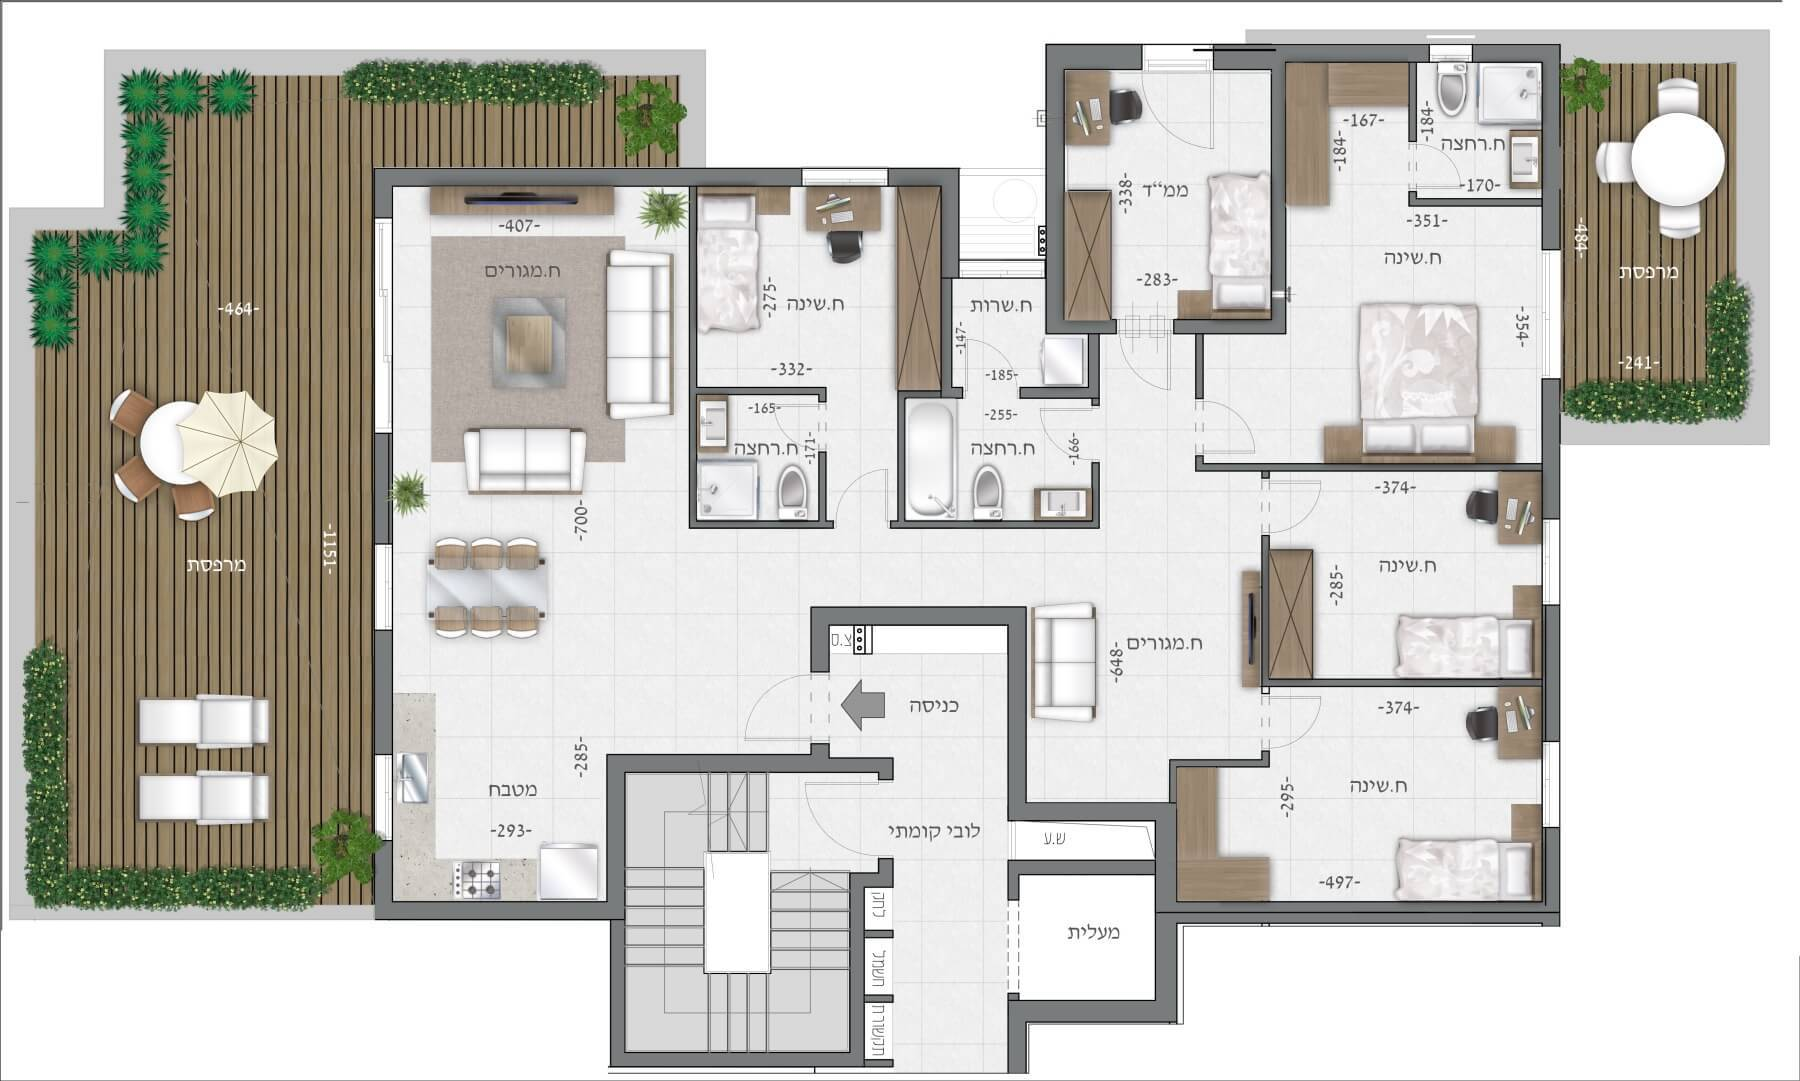door: (730, 665, 798, 748), (795, 773, 861, 850), (372, 755, 392, 832)
wall: (393, 898, 634, 923), (1044, 48, 1065, 328), (372, 172, 801, 185), (814, 611, 1029, 621), (377, 841, 392, 919)
window: (1542, 255, 1560, 371), (375, 545, 397, 629), (1544, 746, 1563, 821), (1543, 523, 1560, 596)
